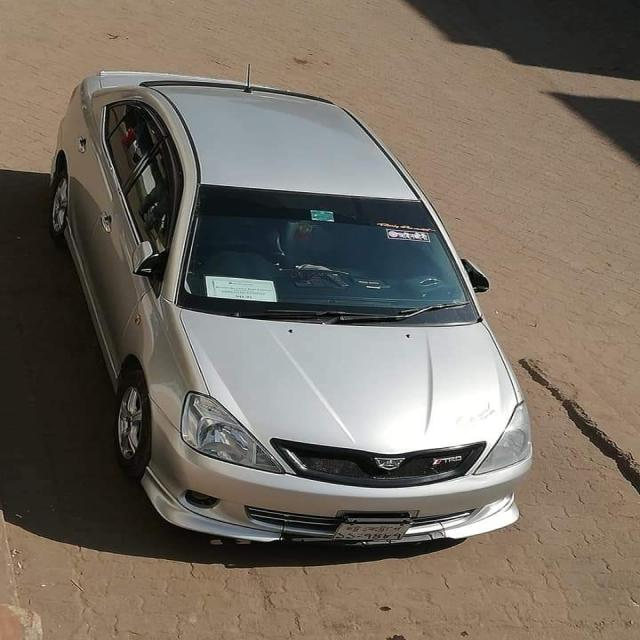silver: (41, 68, 528, 566)
